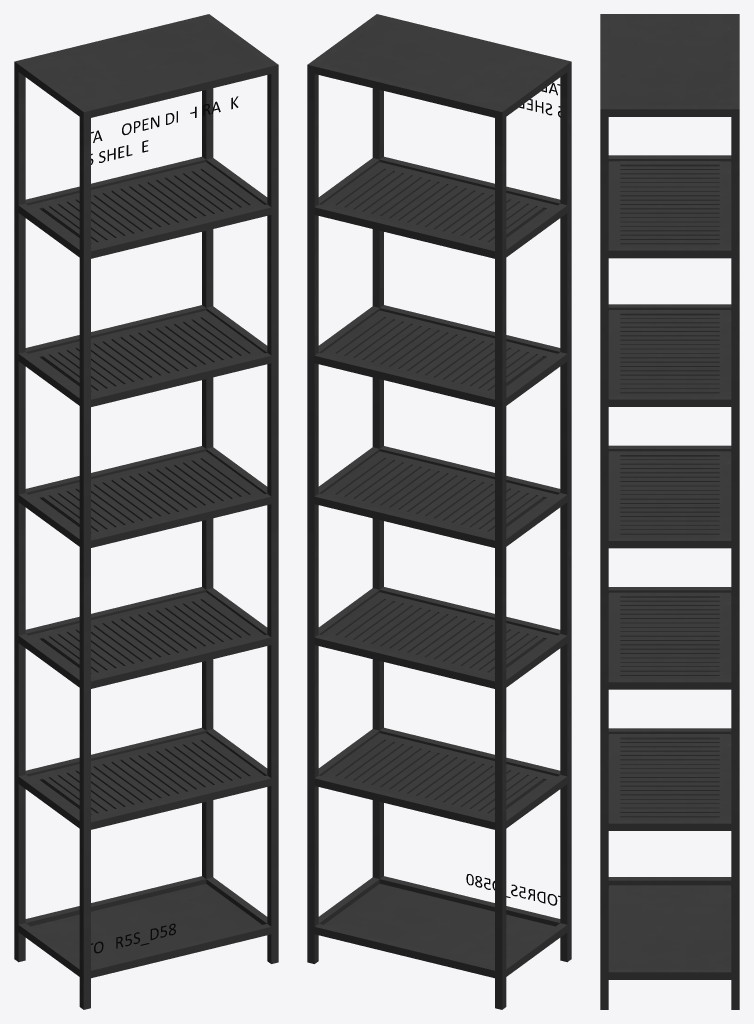
The model's file is TODR5S (H2400xW600xD580).glb.
3 views of the same model, side by side, from view 1: azimuth 30°, elevation 25°; view 2: azimuth 150°, elevation 25°; view 3: azimuth 270°, elevation 25° (orthographic).
Size of the model in its own units: 0.5448 by 2.4 by 0.336.
2 materials, 1 textured.
